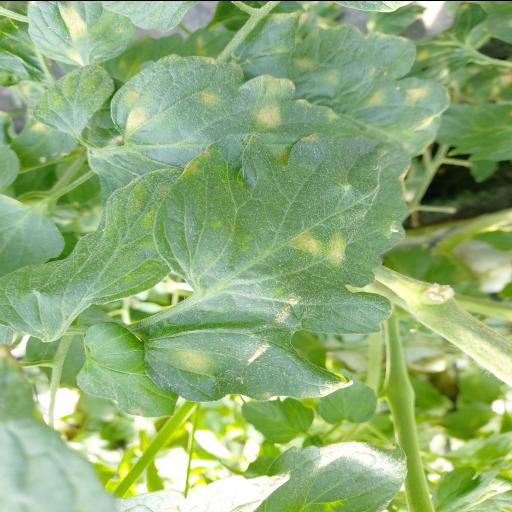disease_tomato: (138, 130, 412, 400)
